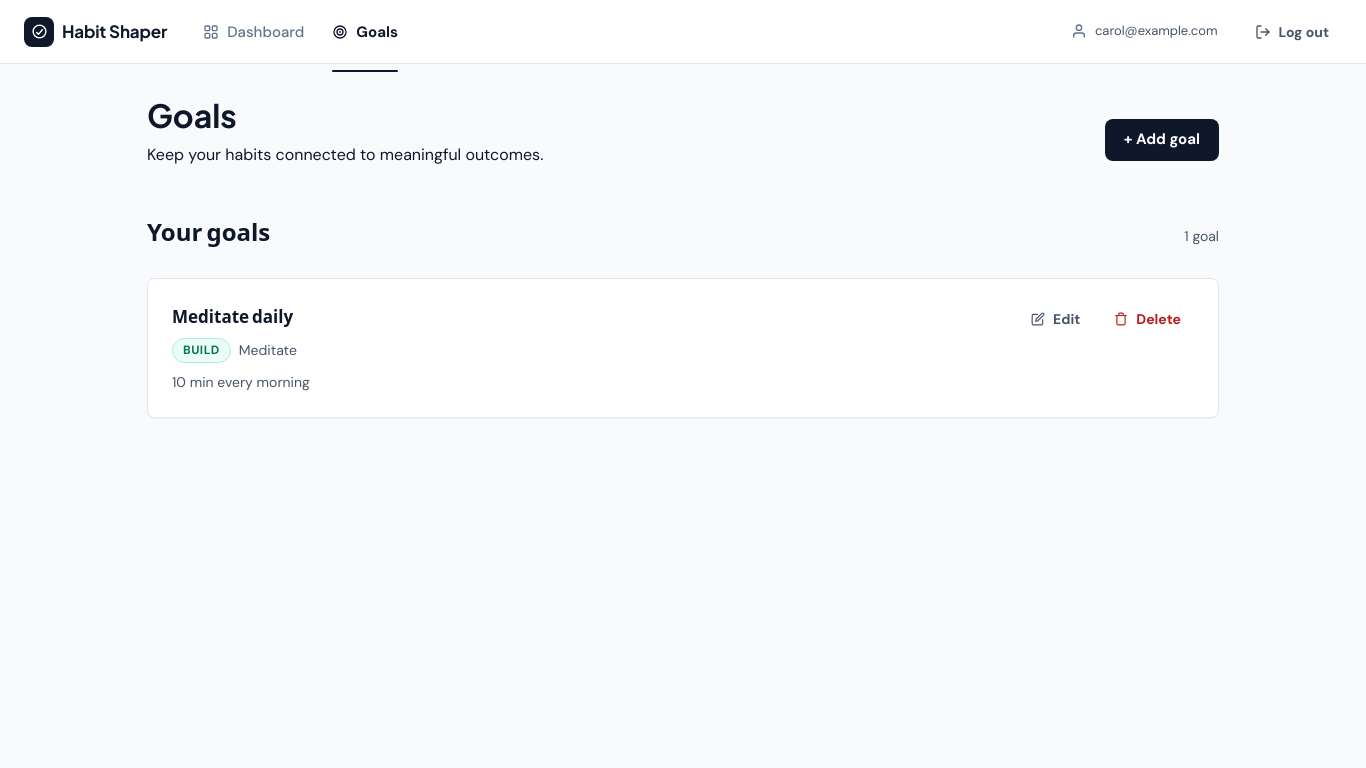
Scenario: Phase 9 goals › 3. Add goal opens an accessible dialog with BUILD + BREAK habits
The image size is (1366, 768).
Expected: the heading "Goals" is shown, [147,95,237,135]
Click the button "+ Add goal" at coordinates (1162, 140), box [1105,119,1219,161]
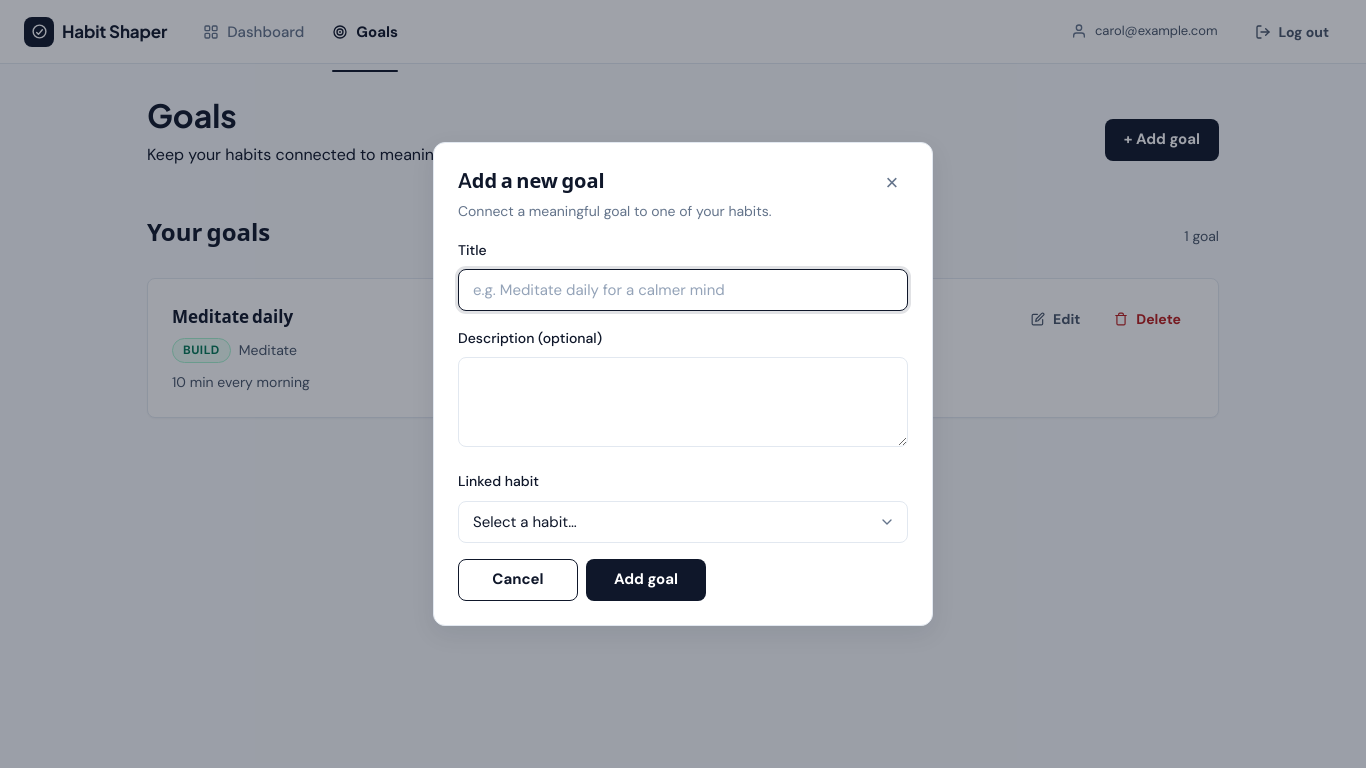
Expected: the dropdown labelled "Linked habit" is shown, [458,501,908,543]
